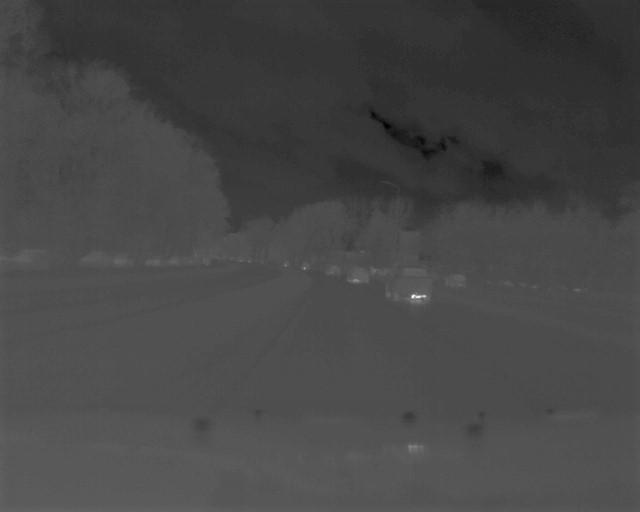car: (384, 267, 432, 302)
